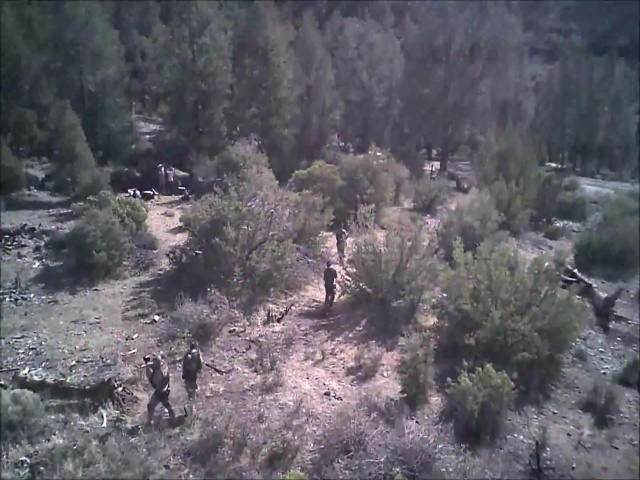person: (141, 350, 175, 428), (181, 339, 203, 403), (319, 260, 337, 310), (333, 221, 351, 262)
